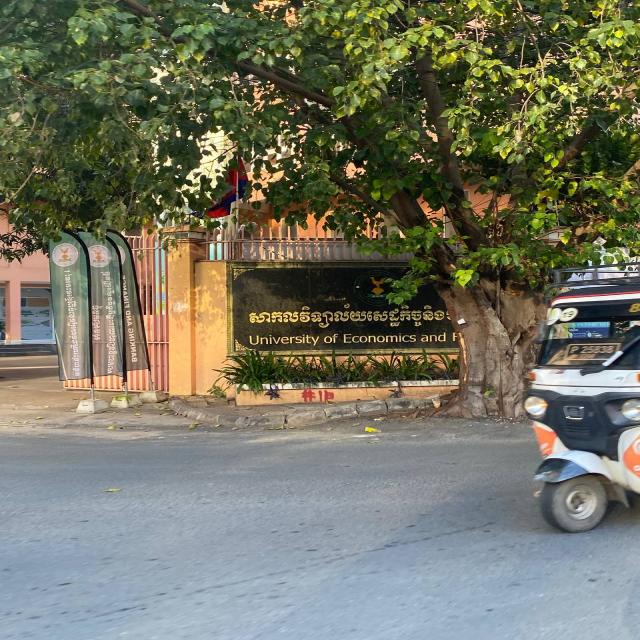Yolov11kh: (240, 302, 450, 334)
